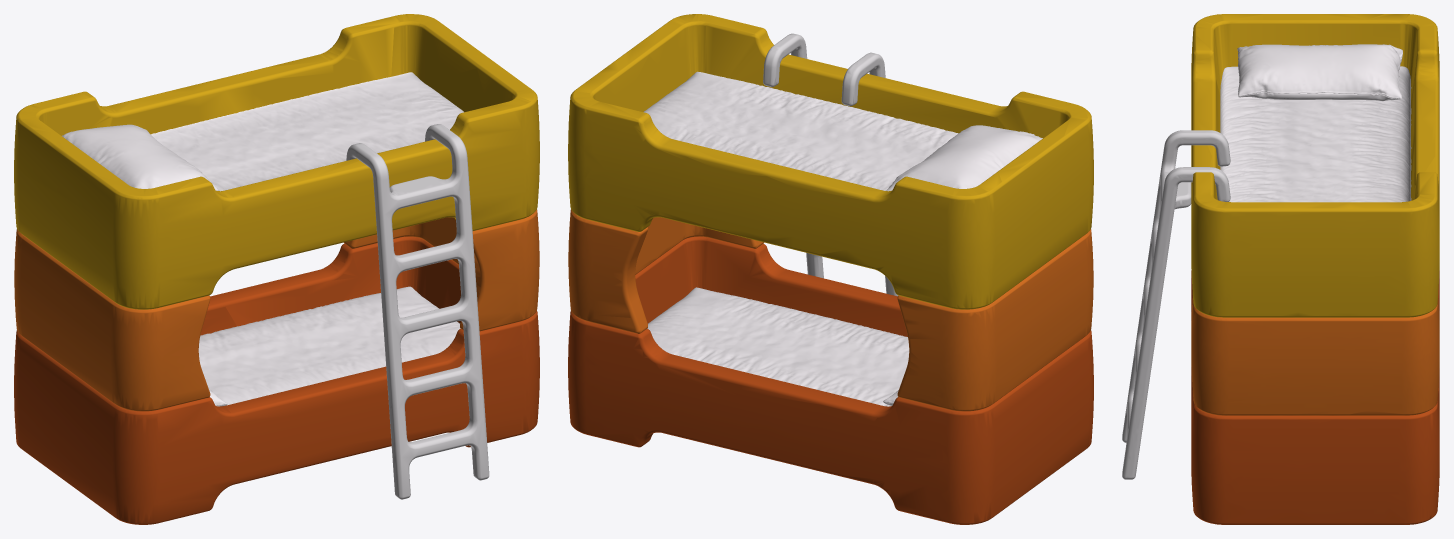
Rendered from dimensiva-bunky-bunk-bed-by-magis.optimized.glb.
3 renders of one model, left to right at view 1: azimuth 30°, elevation 25°; view 2: azimuth 150°, elevation 25°; view 3: azimuth 270°, elevation 25°, orthographic. The views are drawn at different scales.
Visible parts, largest first — view 1: Bunky Bunk Bed; view 2: Bunky Bunk Bed; view 3: Bunky Bunk Bed.
Boxes of the visible parts, x1,y1,x2,y2 form: Bunky Bunk Bed: (14,14,539,524); Bunky Bunk Bed: (568,14,1093,524); Bunky Bunk Bed: (1122,14,1439,524).
Bounding box in the file's own units: 1.91 × 1.42 × 1.29.
Materials: 2 (2 with a texture image).
